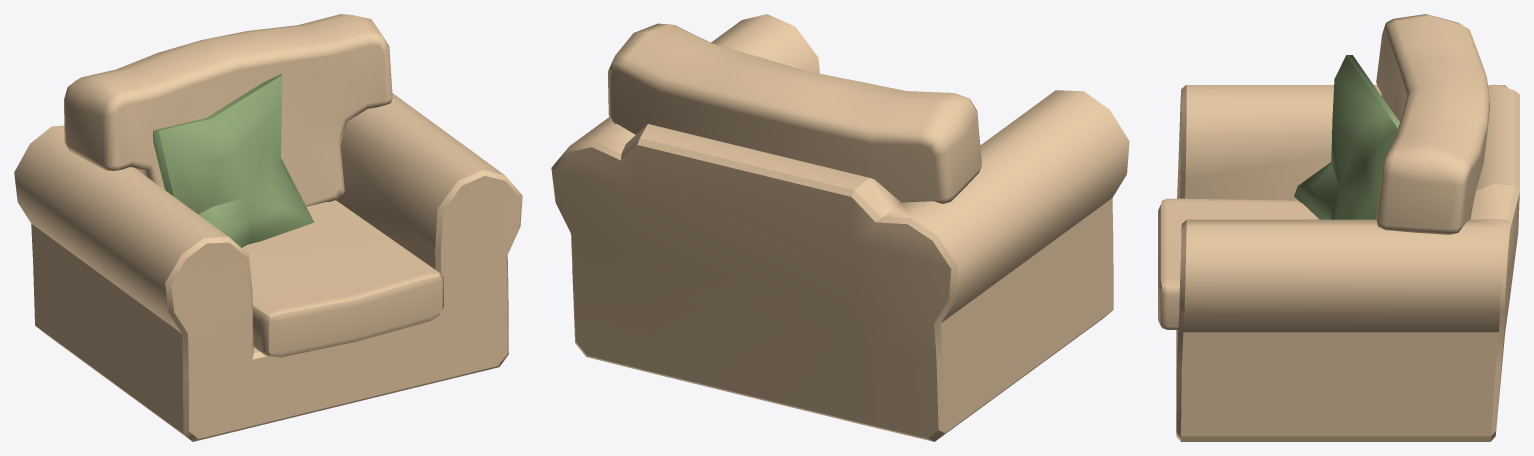
The model's file is armchair_01.fbx.
The picture shows the model from 3 angles, left to right: view 1: azimuth 30°, elevation 25°; view 2: azimuth 150°, elevation 25°; view 3: azimuth 270°, elevation 25°; orthographic projection. The views are drawn at different scales.
Parts seen in each view (by area): view 1: pCube275, pCube277, pCube276, pCube279; view 2: pCube275, pCube277; view 3: pCube275, pCube277, pCube279, pCube276.
Boxes of the visible parts, x1,y1,x2,y2 form: pCube275: [14, 93, 522, 441]; pCube277: [64, 14, 392, 206]; pCube276: [242, 200, 443, 357]; pCube279: [153, 74, 314, 247]; pCube275: [551, 14, 1129, 441]; pCube277: [608, 23, 981, 203]; pCube275: [1176, 84, 1519, 441]; pCube277: [1376, 14, 1490, 234]; pCube279: [1294, 55, 1399, 219]; pCube276: [1158, 198, 1319, 329].
Bounding box in the file's own units: 8.82 × 6.4 × 7.39.
